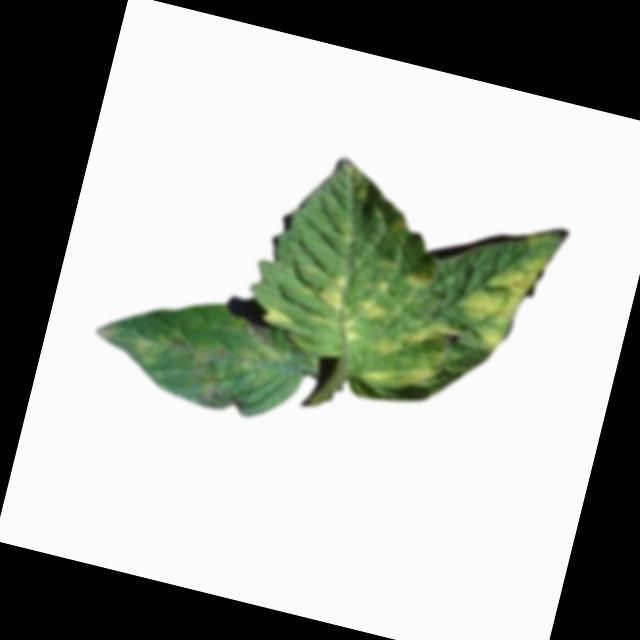Leaf_Mold: (84, 276, 315, 427), (449, 235, 548, 363), (362, 309, 456, 398), (304, 261, 389, 349), (397, 258, 438, 292), (259, 305, 294, 327), (384, 208, 408, 230)
